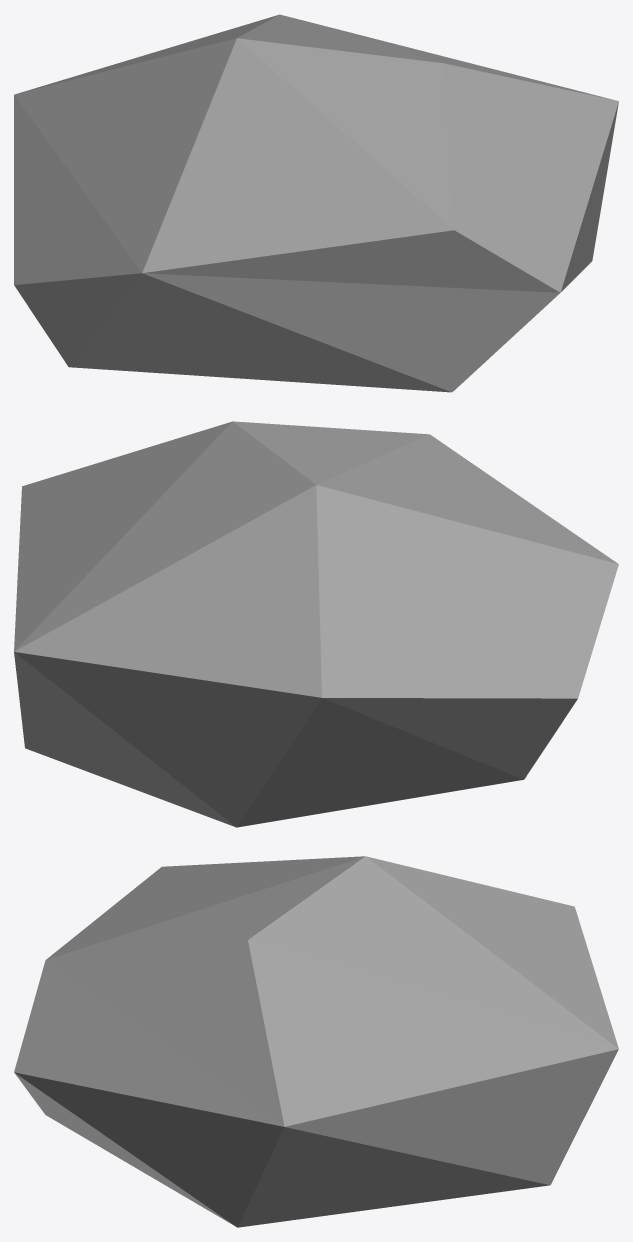
Rendered from rock_02.glb.
3 views of the same model, one above another, from view 1: azimuth 30°, elevation 25°; view 2: azimuth 150°, elevation 25°; view 3: azimuth 270°, elevation 25° (orthographic). The views are drawn at different scales.
Visible parts, largest first — view 1: Rock_02; view 2: Rock_02; view 3: Rock_02.
Part boxes in pixels (x1=…): Rock_02: x1=14, y1=14, x2=618, y2=392; Rock_02: x1=14, y1=421, x2=618, y2=827; Rock_02: x1=14, y1=856, x2=618, y2=1227.
Bounding box in the file's own units: 0.175 × 0.0938 × 0.163.
1 material, 1 textured.
